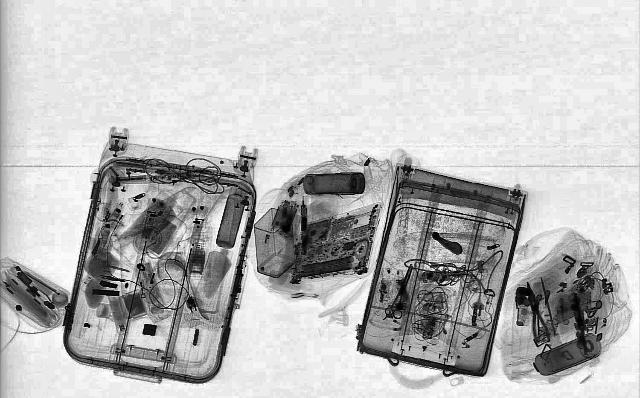Pliers: (516, 280, 552, 342)
Scissors: (380, 262, 420, 318)
